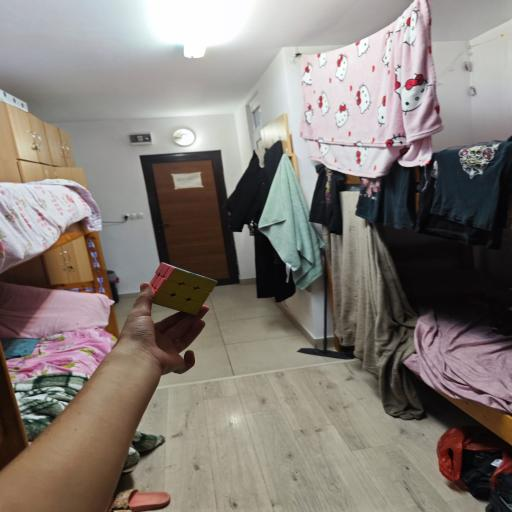Rubiks Cube: (139, 262, 213, 314)
